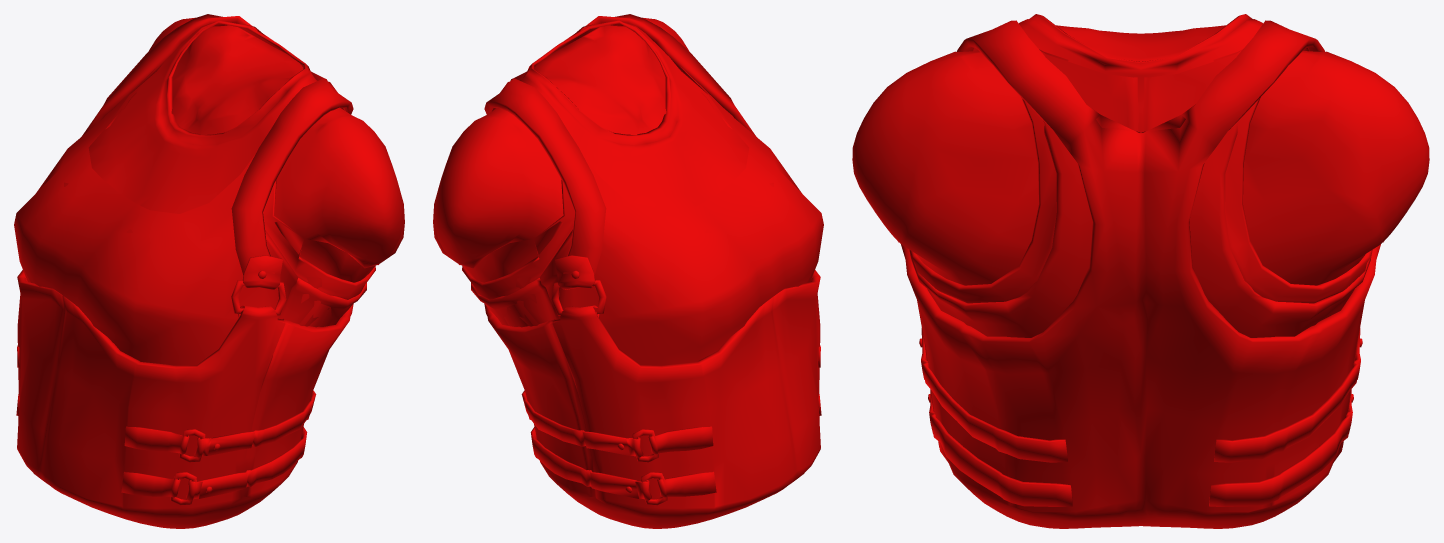
Rendered from TorsoUpper.dae.
3 renders of one model, left to right at view 1: azimuth 30°, elevation 25°; view 2: azimuth 150°, elevation 25°; view 3: azimuth 270°, elevation 25°, orthographic. The views are drawn at different scales.
Visible parts, largest first — view 1: TorsoUpper; view 2: TorsoUpper; view 3: TorsoUpper.
Boxes of the visible parts, box(x1,y1,x2,y2) form: TorsoUpper: box(14, 14, 404, 528); TorsoUpper: box(433, 14, 823, 528); TorsoUpper: box(852, 14, 1429, 528).
Size of the model in its own units: 0.2718 by 0.349 by 0.3745.
